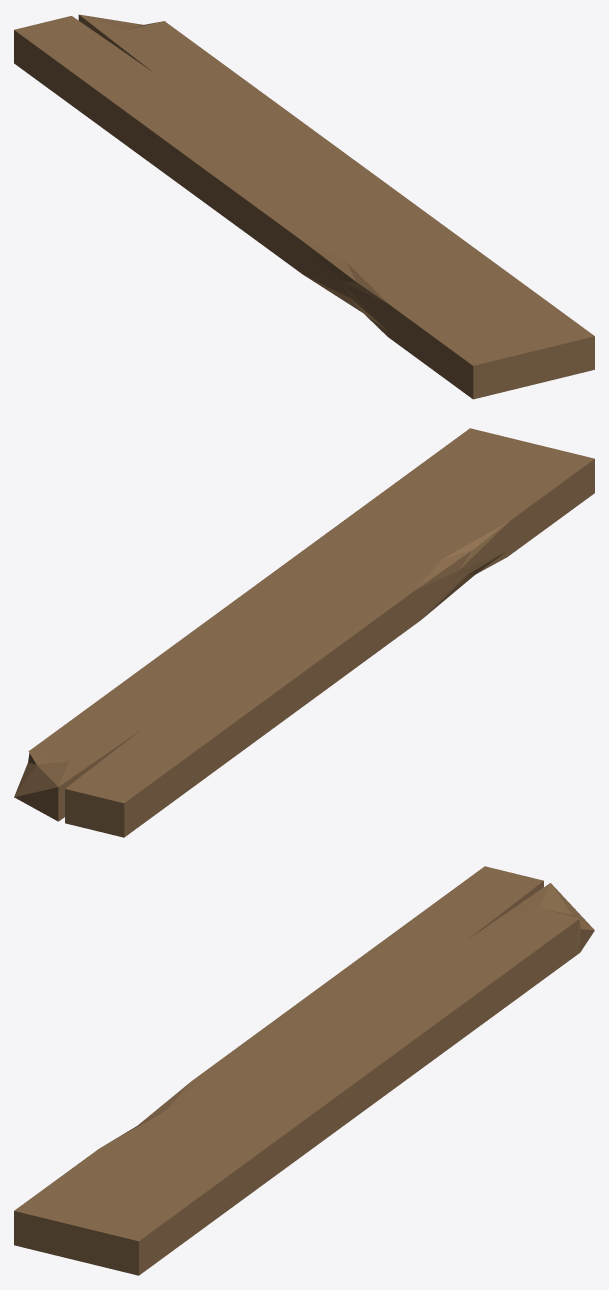
Rendered from Desk_05.fbx.
3 renders of one model, top to bottom at view 1: azimuth 30°, elevation 25°; view 2: azimuth 150°, elevation 25°; view 3: azimuth 330°, elevation 25°, orthographic. The views are drawn at different scales.
Parts seen in each view (by area): view 1: Desk_05; view 2: Desk_05; view 3: Desk_05.
Boxes of the visible parts, x1,y1,x2,y2 form: Desk_05: (14,14,594,399); Desk_05: (14,428,594,837); Desk_05: (14,866,594,1275).
Bounding box in the file's own units: 0.4174 × 0.1102 × 2.71.
